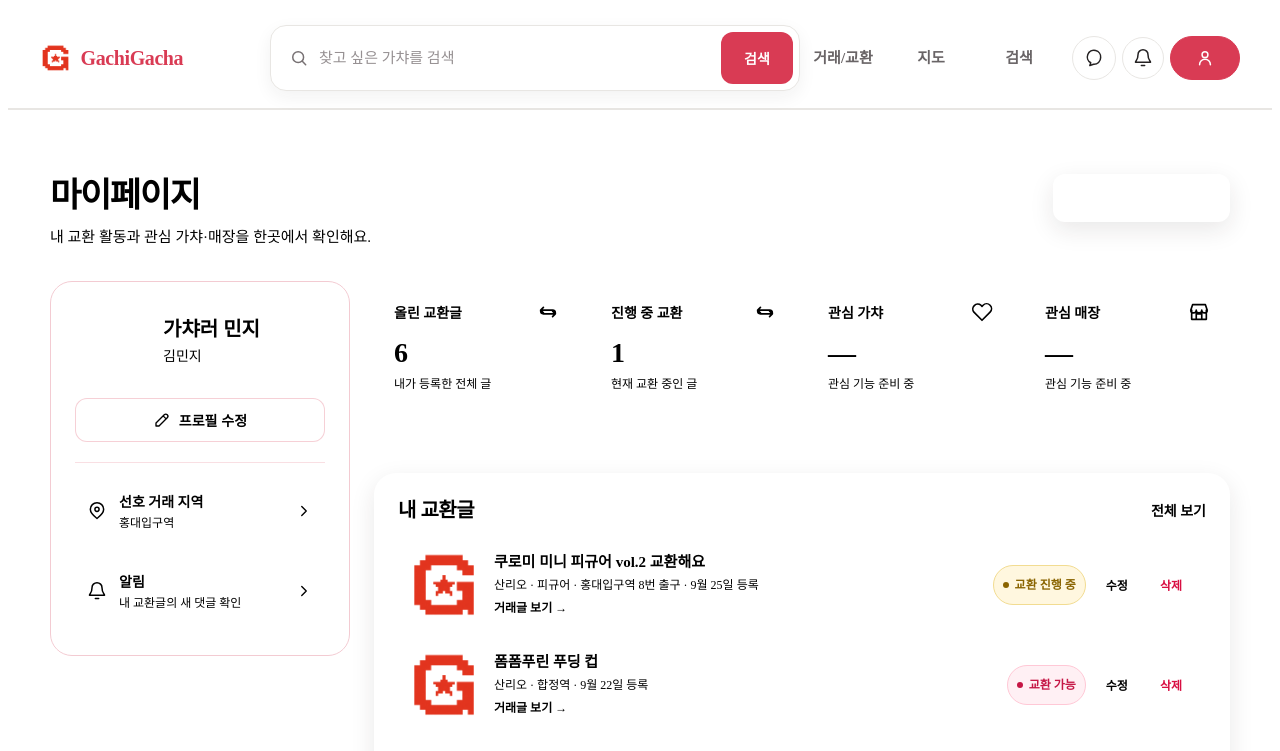
Test case: MyPageRoute 내 교환글 삭제 › 삭제에 실패하면 확인 창에 오류를 보여주고 닫지 않는다
Click the button with aria-label "쿠로미 미니 피규어 vol.2 교환해요 삭제": coordinates (1171, 585) [1148,569,1194,601]
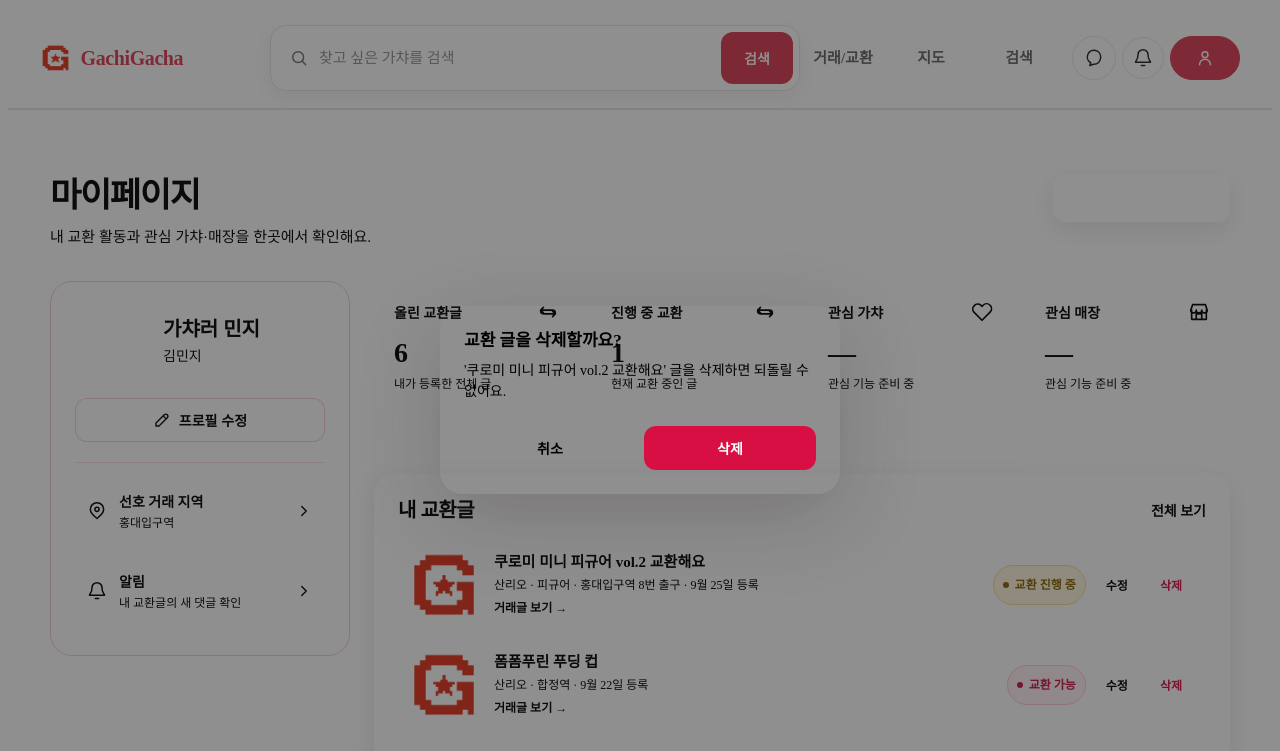
Click the button "삭제": coordinates (730, 448) [644,426,816,470]
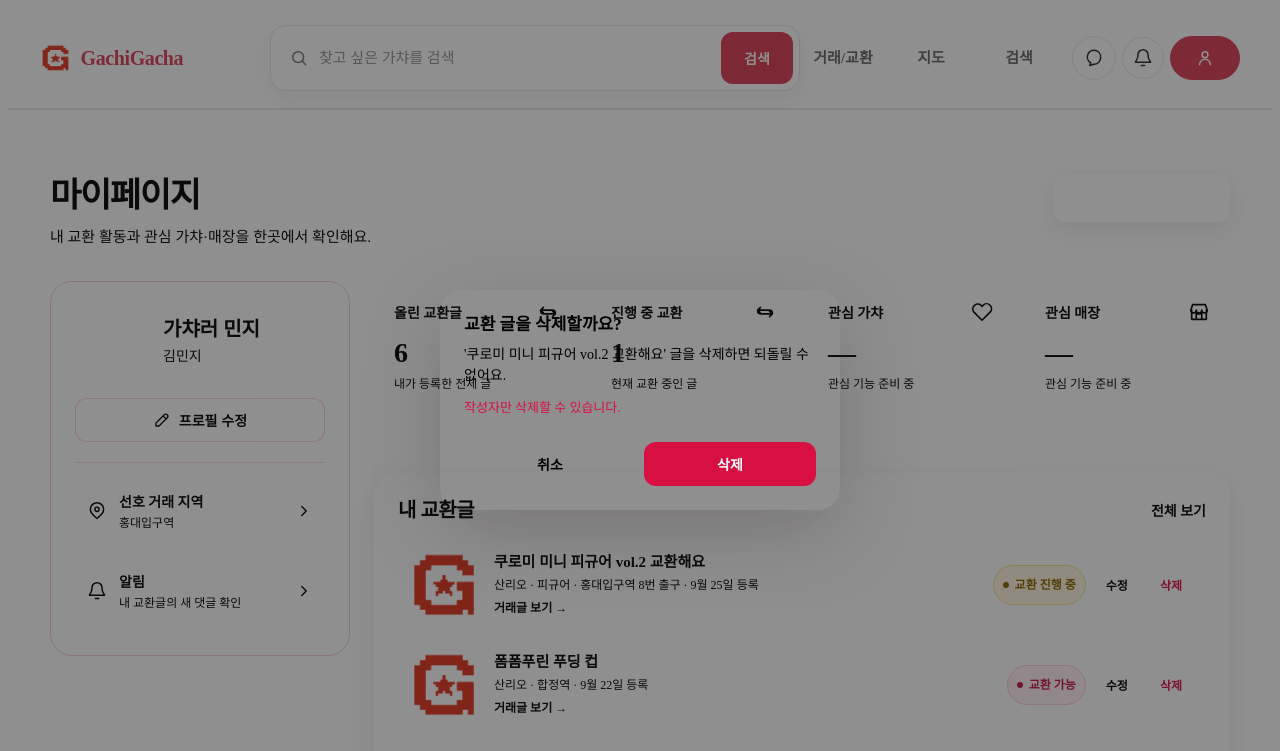
Result: the dialog is shown at [440,290,840,510]
Result: the message reads "작성자만 삭제할 수 있습니다." at [464,400,620,415]
